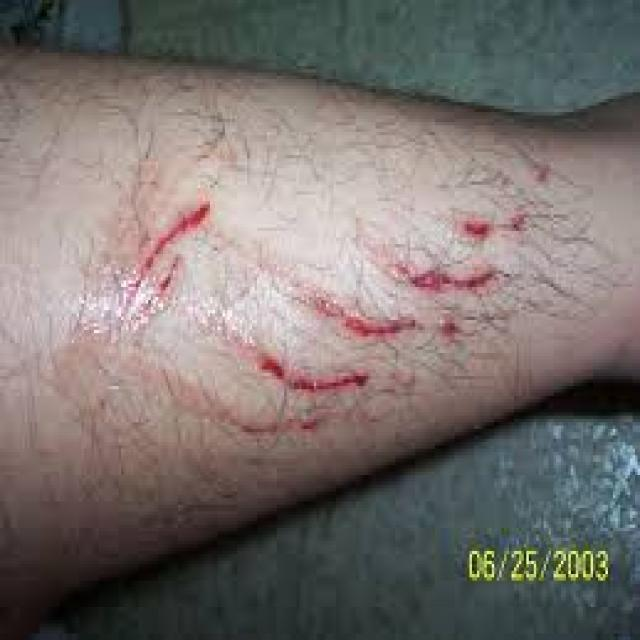wound: (80, 170, 538, 444), (240, 277, 418, 453), (363, 192, 538, 312), (114, 180, 230, 334)
